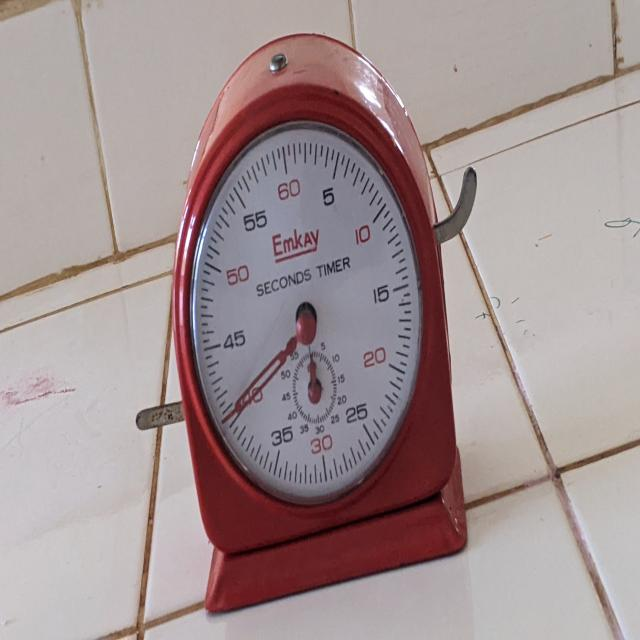Analog Stopwatch: (155, 21, 490, 590)
